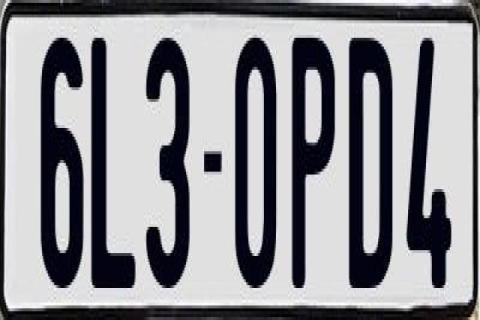0: (404, 29, 452, 288), (144, 38, 188, 294), (41, 32, 83, 300), (232, 32, 276, 282)
D: (349, 32, 396, 291)
L: (90, 29, 140, 291)
P: (292, 32, 338, 288)
